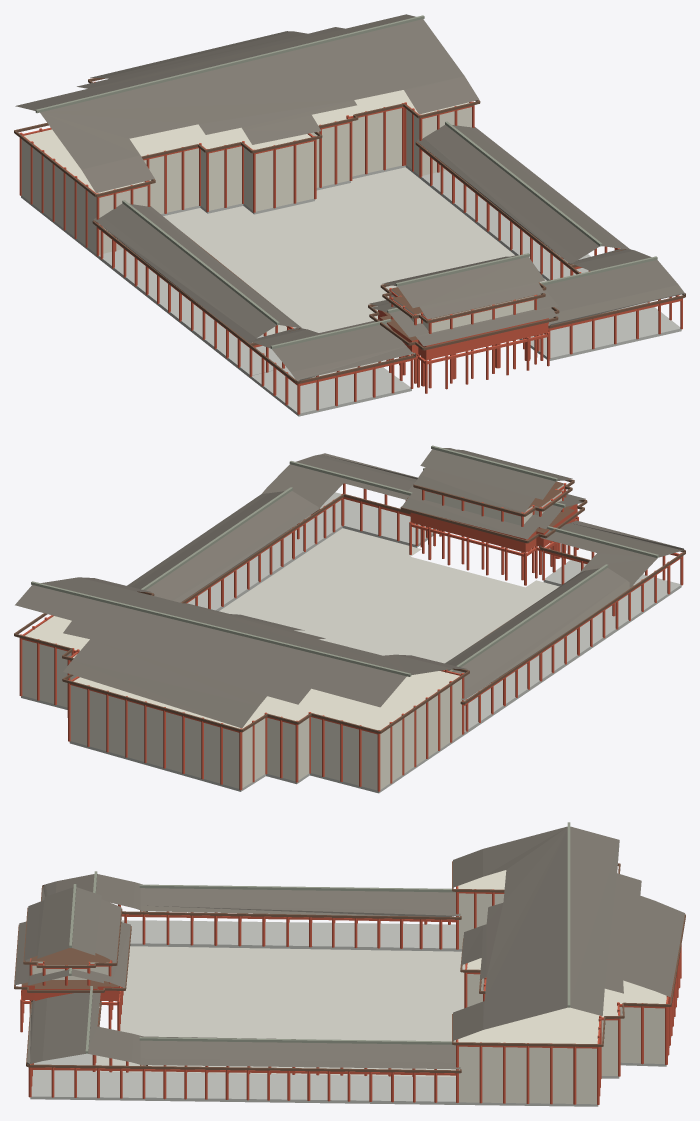
3 views of the same model, one above another, from view 1: azimuth 30°, elevation 25°; view 2: azimuth 150°, elevation 25°; view 3: azimuth 270°, elevation 25° (orthographic). The views are drawn at different scales.
Parts seen in each view (by area): view 1: dazaifu-tenmangu; view 2: dazaifu-tenmangu; view 3: dazaifu-tenmangu.
Boxes of the visible parts, bbox=[...] form: dazaifu-tenmangu: bbox=[14, 14, 685, 416]; dazaifu-tenmangu: bbox=[14, 445, 685, 793]; dazaifu-tenmangu: bbox=[14, 822, 685, 1106].
Bounding box in the file's own units: 53.94 × 13.79 × 81.14.
